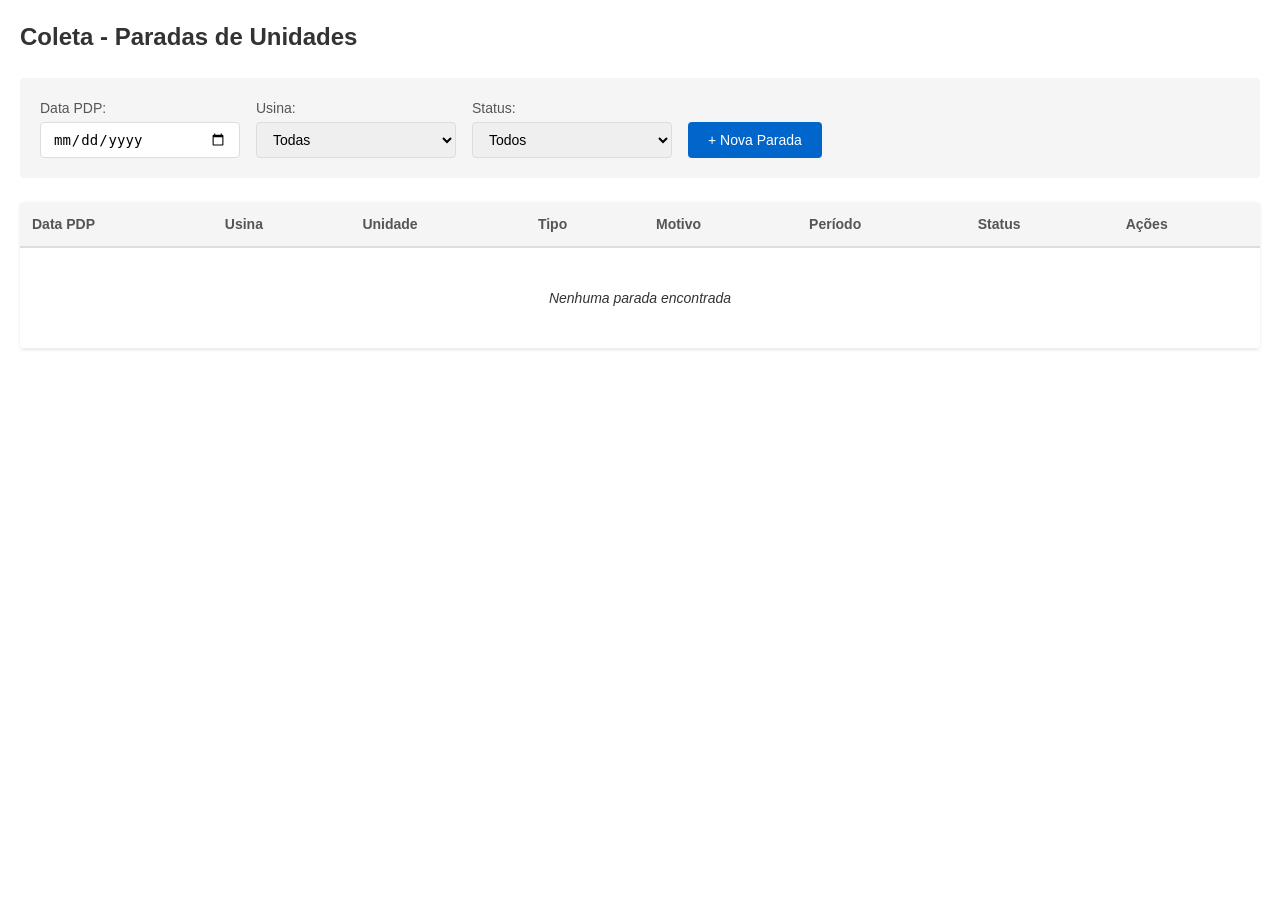
Test: UnitOutage Component › Salvar parada › deve exibir erro ao salvar sem preencher campos obrigatórios
This screenshot has width=1280, height=900.
Click the button with test id "btn-nova-parada". click: [755, 140]
box: left=688, top=122, right=822, bottom=158
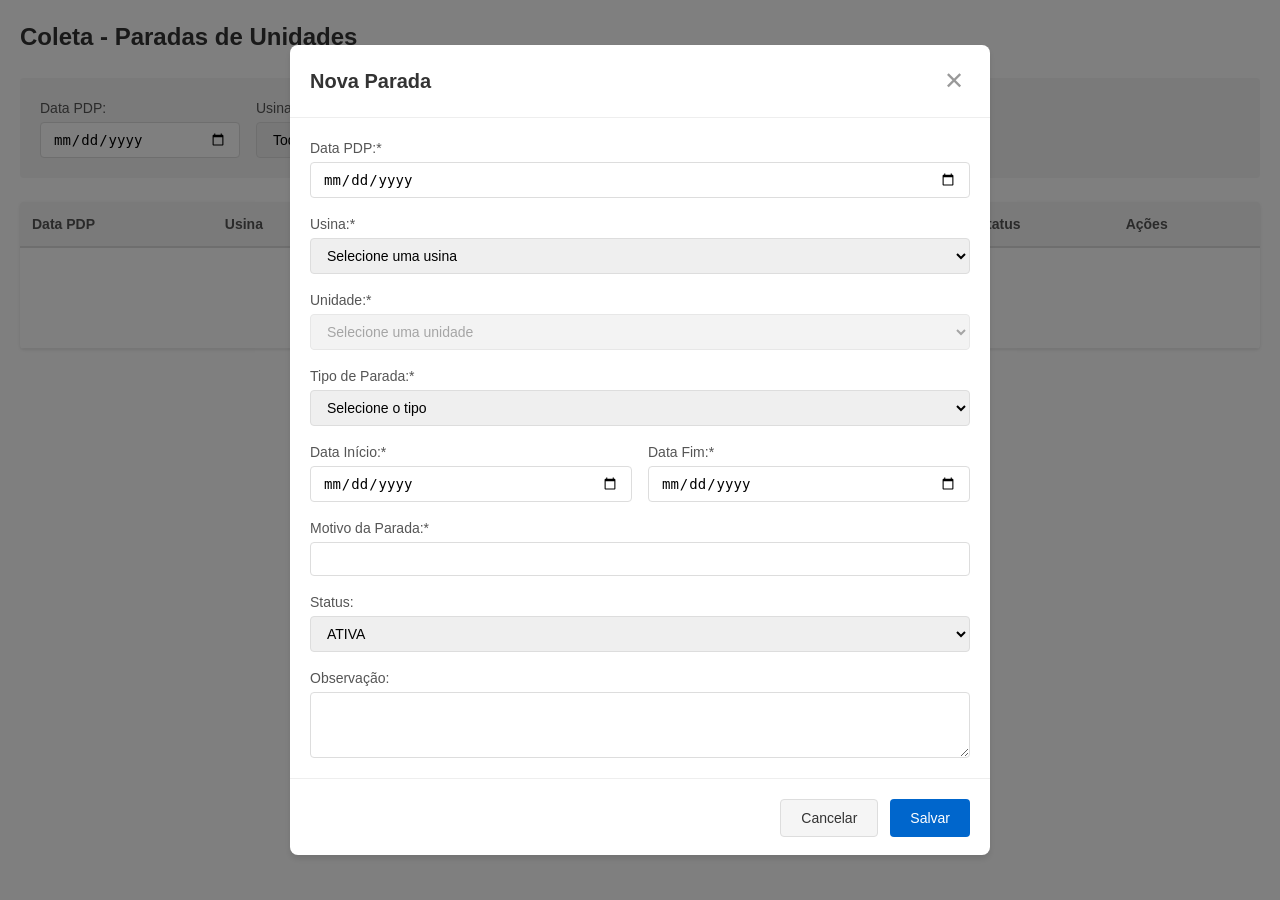
Now the button with test id "btn-save" is shown
Click the button with test id "btn-save". click: [930, 818]
box: left=890, top=799, right=970, bottom=837
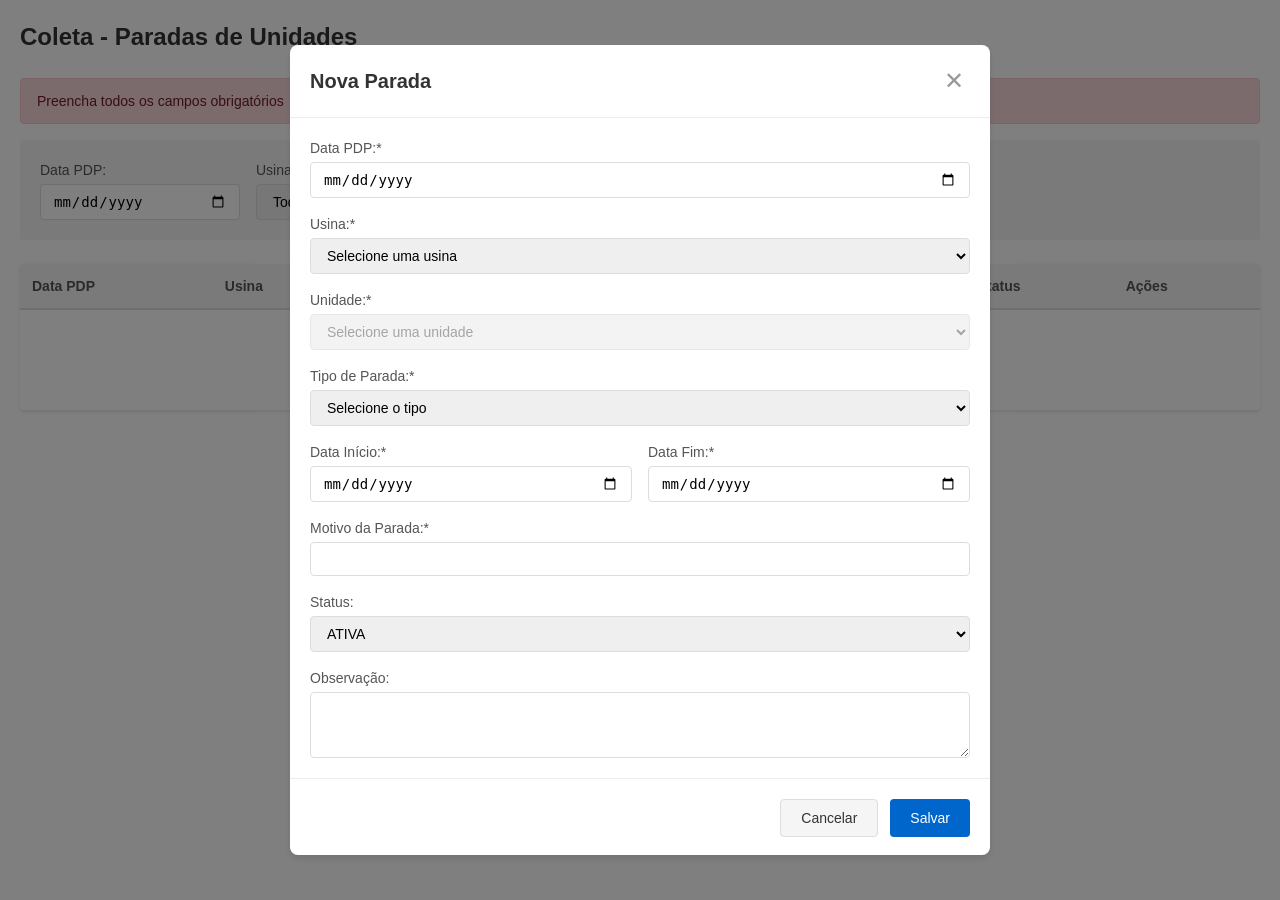
Now the text "Preencha todos os campos obrigatórios" is shown, box left=20, top=78, right=1260, bottom=124
